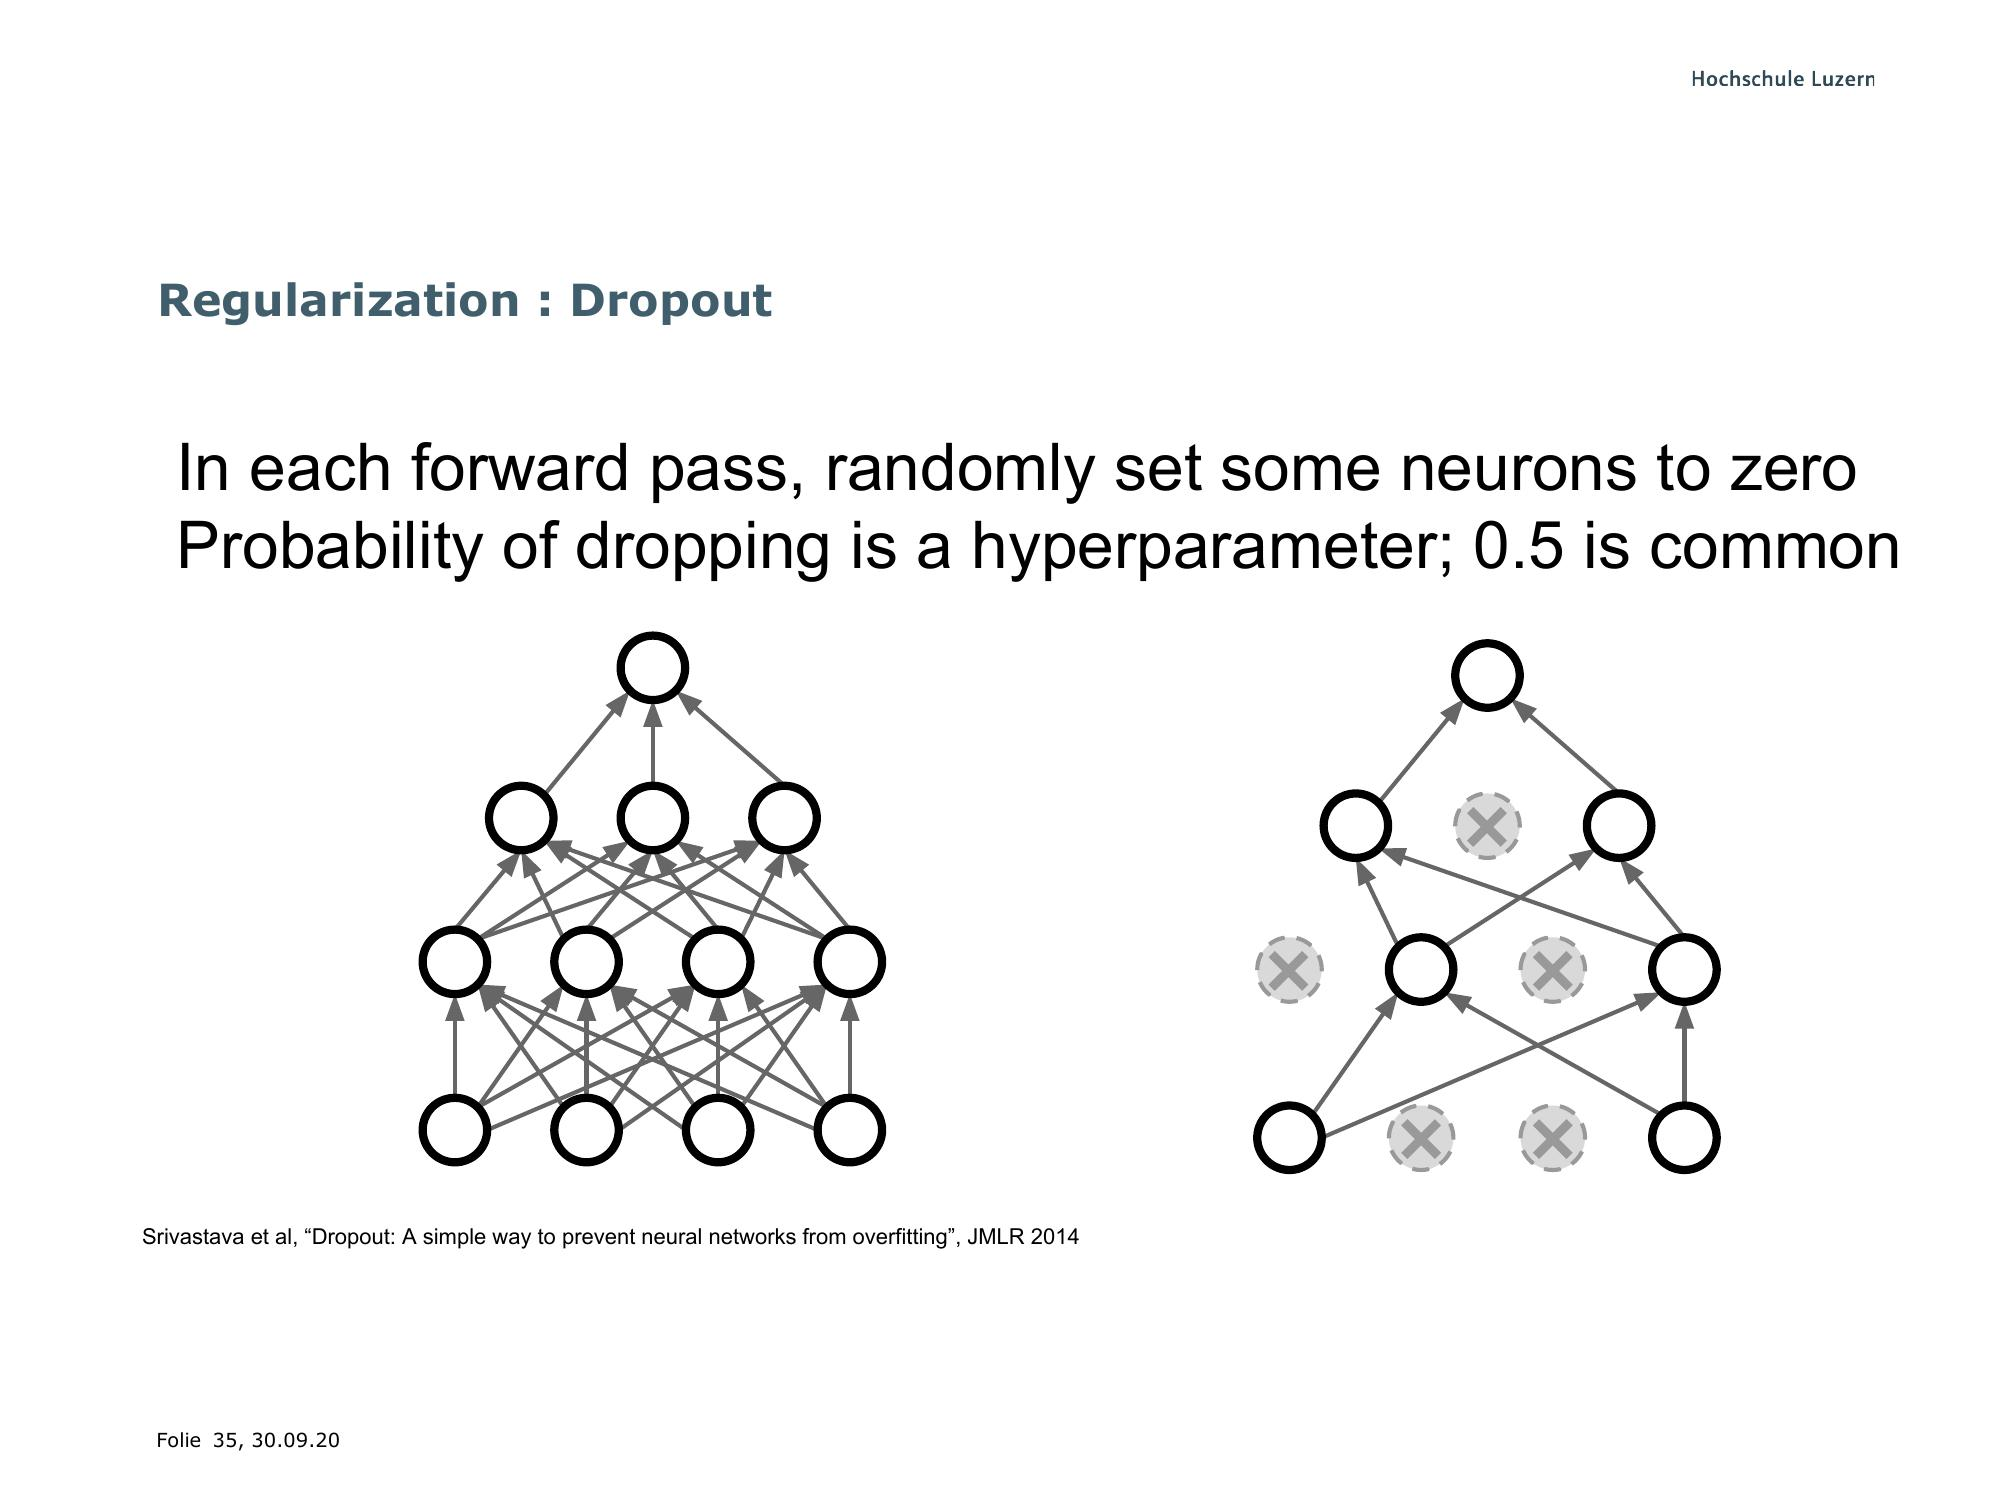Title: (153, 265, 783, 342)
